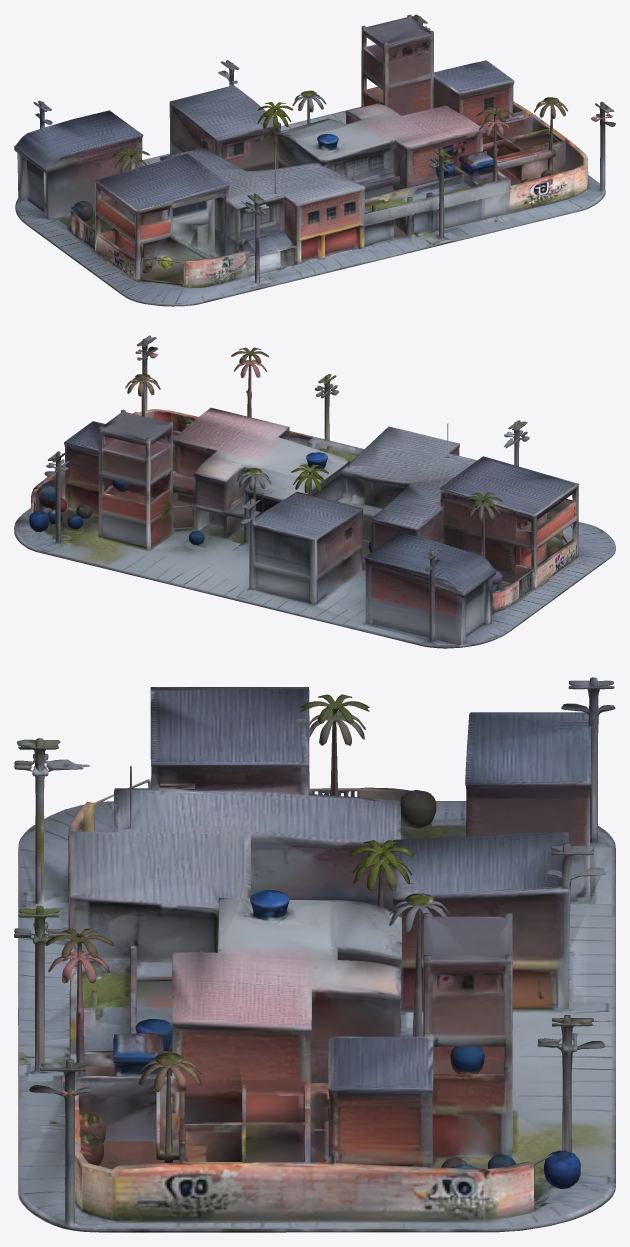
The model's file is favela-b.glb.
3 renders of one model, top to bottom at view 1: azimuth 30°, elevation 25°; view 2: azimuth 150°, elevation 25°; view 3: azimuth 270°, elevation 25°, orthographic. The views are drawn at different scales.
Parts seen in each view (by area): view 1: node_0; view 2: node_0; view 3: node_0.
Boxes of the visible parts, x1,y1,x2,y2 form: node_0: [14, 14, 615, 306]; node_0: [14, 335, 615, 648]; node_0: [14, 677, 615, 1232].
Bounding box in the file's own units: 1.06 × 0.2343 × 0.6276.
1 material, 1 textured.
